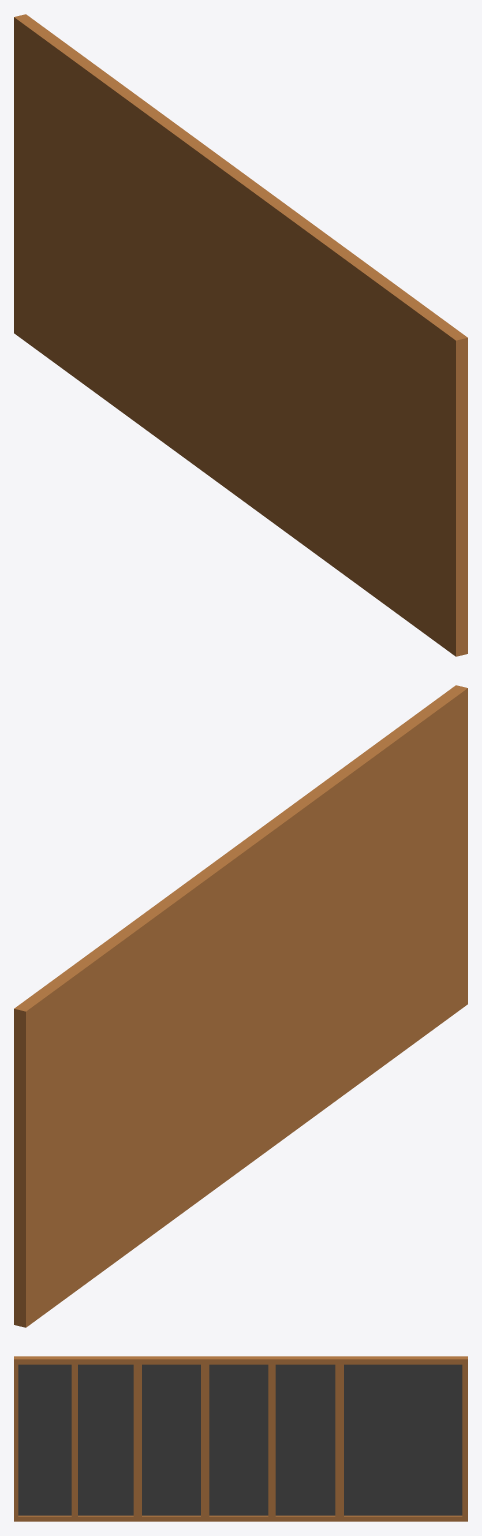
The model's file is TableauMenuCraie_Cafet.fbx.
3 renders of one model, top to bottom at view 1: azimuth 30°, elevation 25°; view 2: azimuth 150°, elevation 25°; view 3: azimuth 270°, elevation 25°, orthographic. The views are drawn at different scales.
Parts seen in each view (by area): view 1: Tableau_Craie; view 2: Tableau_Craie; view 3: Tableau_Craie.
Boxes of the visible parts, bbox=[...] form: Tableau_Craie: bbox=[14, 14, 467, 656]; Tableau_Craie: bbox=[14, 685, 467, 1327]; Tableau_Craie: bbox=[14, 1356, 467, 1521].
Bounding box in the file's own units: 0.6273 × 15.83 × 40.11.
